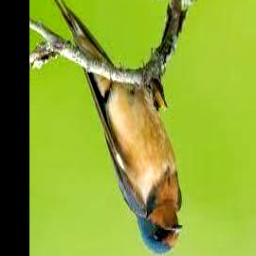Swallow: (48, 0, 182, 256)
